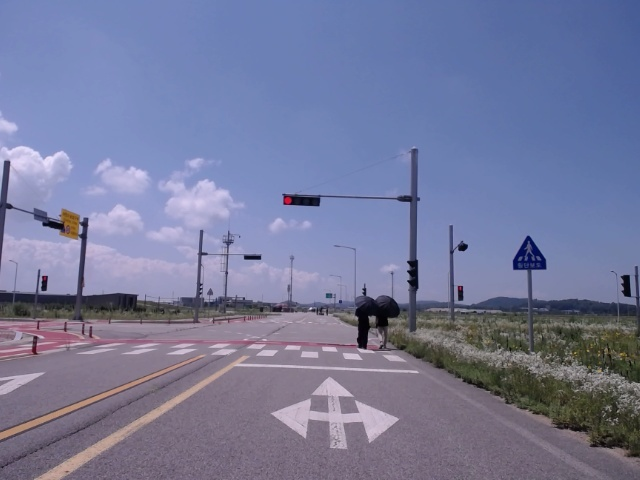red_4: (283, 196, 320, 206)
